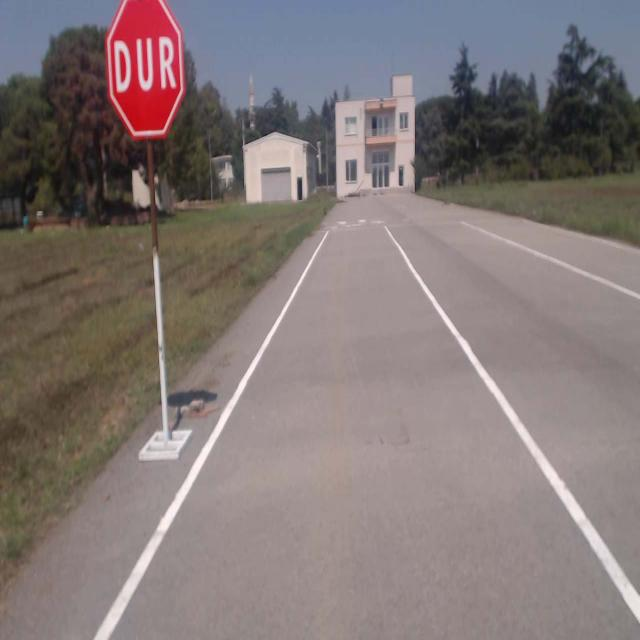dur: (106, 2, 184, 138)
